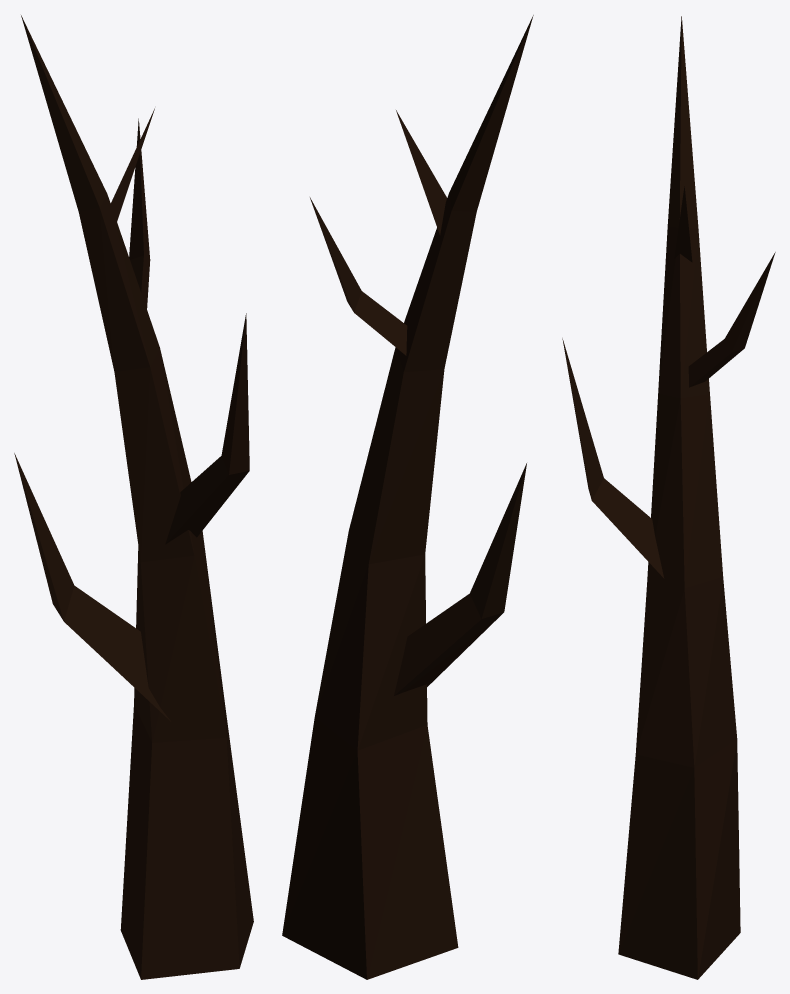
The model's file is Tree2_M1_dead1.fbx.
3 renders of one model, left to right at view 1: azimuth 30°, elevation 25°; view 2: azimuth 150°, elevation 25°; view 3: azimuth 270°, elevation 25°, orthographic. The views are drawn at different scales.
Parts seen in each view (by area): view 1: Tree2_M1_dead1; view 2: Tree2_M1_dead1; view 3: Tree2_M1_dead1.
Boxes of the visible parts, x1=… form: Tree2_M1_dead1: x1=14, y1=15, x2=253, y2=979; Tree2_M1_dead1: x1=282, y1=15, x2=533, y2=979; Tree2_M1_dead1: x1=562, y1=16, x2=775, y2=979.
Bounding box in the file's own units: 92.51 × 355 × 79.81.
